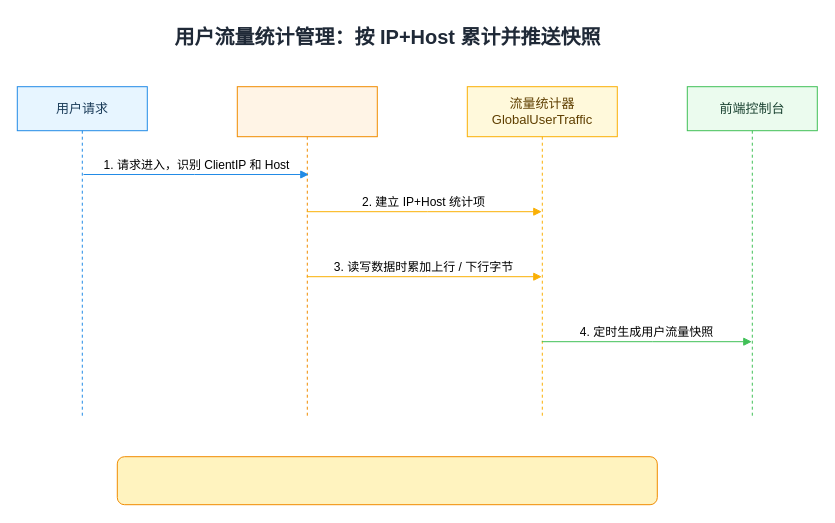
Image size: 835x523. Some labels were removed from this diagram. The box of each missing label's shape, as (x1, y1, x2, y2) in pixels:
代理处理器 HTTP / HTTPS: (236, 86, 377, 417)
统计模块只做三件事，识别用户，累计字节，推送快照。: (116, 456, 657, 505)
